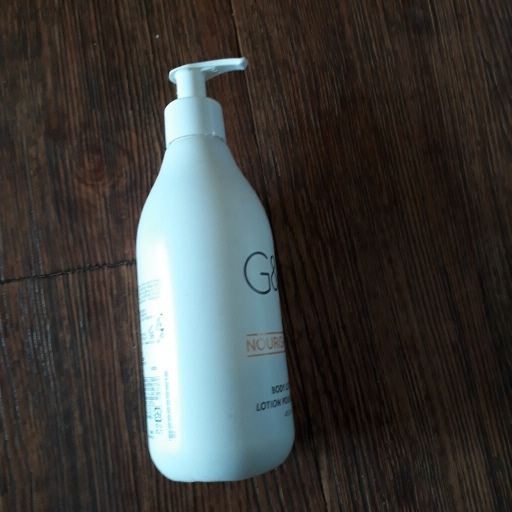Plastic_3: (132, 56, 296, 484)
